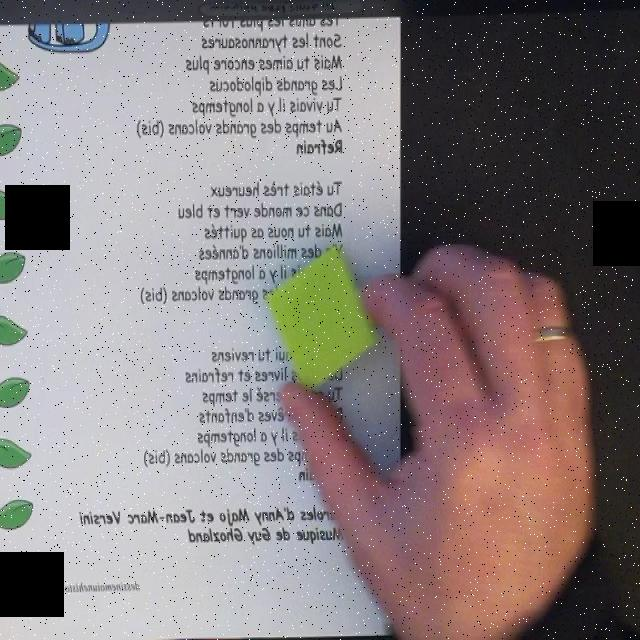square: (264, 247, 376, 391)
